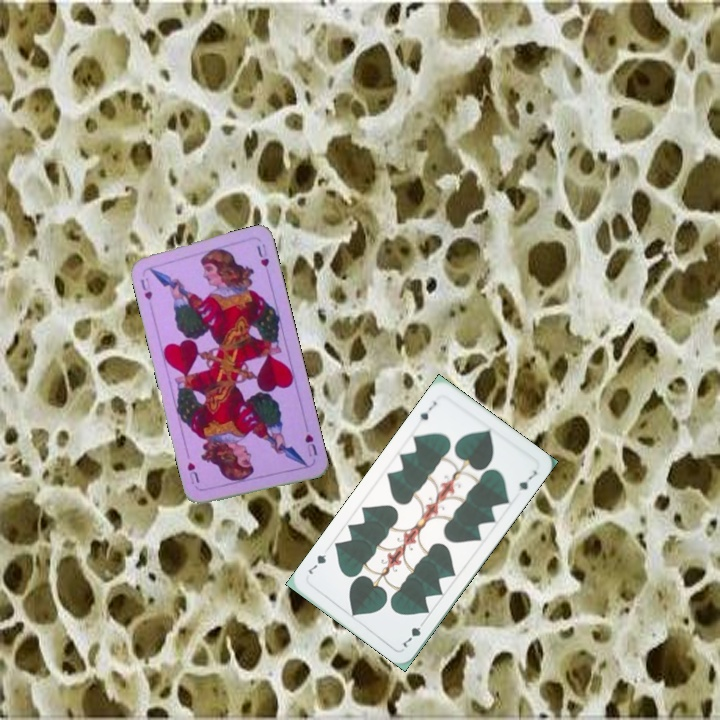G7: (399, 616, 428, 650), (413, 397, 439, 427)
HU: (301, 422, 320, 459), (136, 275, 155, 302)
